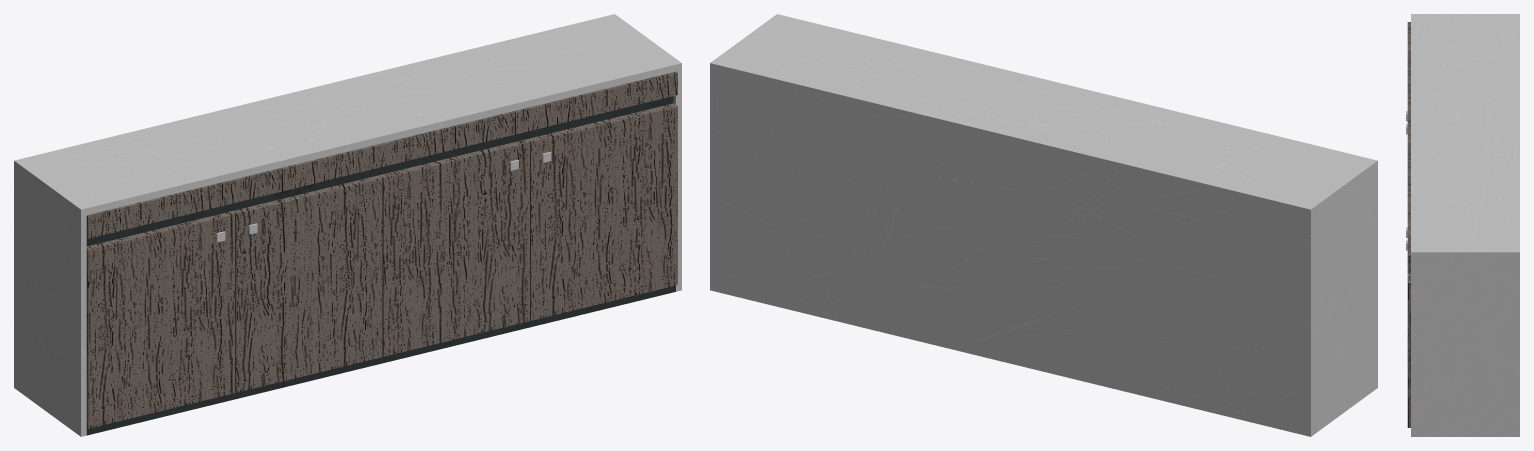
Rendered from Buffet.fbx.
The picture shows the model from 3 angles, left to right: view 1: azimuth 30°, elevation 25°; view 2: azimuth 150°, elevation 25°; view 3: azimuth 270°, elevation 25°; orthographic projection. The views are drawn at different scales.
Parts seen in each view (by area): view 1: pCube1; view 2: pCube1; view 3: pCube1.
Boxes of the visible parts, x1,y1,x2,y2 form: pCube1: (14,14,681,436); pCube1: (710,14,1377,436); pCube1: (1407,14,1519,436).
Bounding box in the file's own units: 1.85 × 0.6677 × 0.3726.
